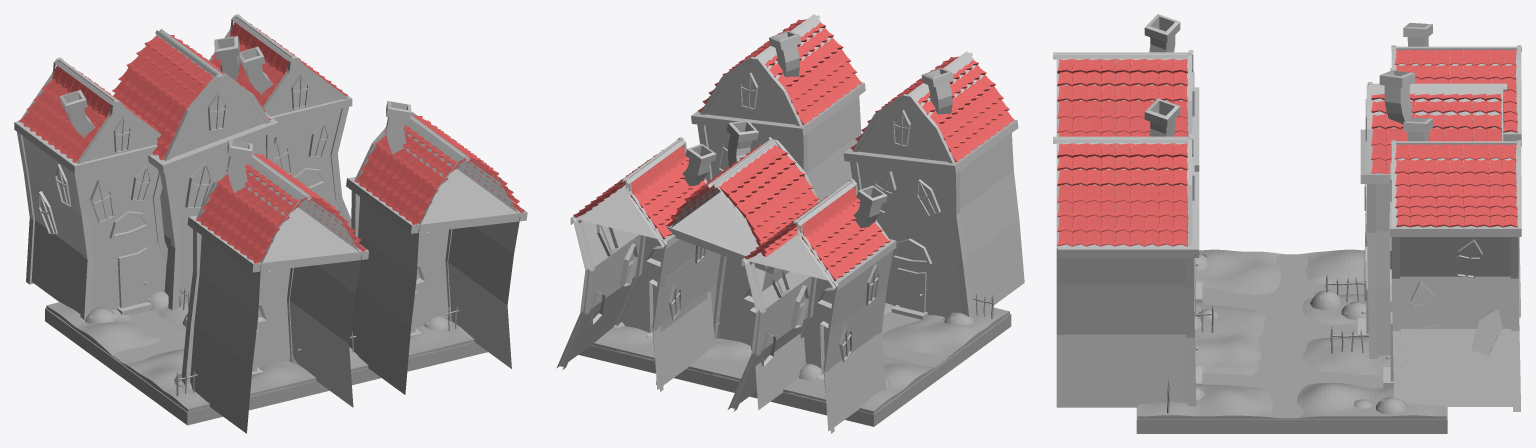
Rendered from village_maisons_v1.fbx.
The picture shows the model from 3 angles, left to right: view 1: azimuth 30°, elevation 25°; view 2: azimuth 150°, elevation 25°; view 3: azimuth 270°, elevation 25°; orthographic projection. The views are drawn at different scales.
Parts seen in each view (by area): view 1: Maison_entre_4, Maison_entre_3, Maison_2, Maison_entre_2, Maison_1, sol24, sol10, sol23; view 2: Maison_entre_4, Maison_2, Maison_1, Maison_entre_2, Maison_entre_3, sol24, sol10, sol23; view 3: Maison_entre_3, Maison_1, sol24, Maison_entre_2, Maison_entre_4, sol23, Maison_2, sol10, Buisson19.
Boxes of the visible parts, x1,y1,x2,y2 form: Maison_entre_4: [181, 139, 368, 433]; Maison_entre_3: [346, 101, 527, 394]; Maison_2: [14, 57, 167, 320]; Maison_entre_2: [112, 29, 279, 310]; Maison_1: [209, 14, 352, 227]; sol24: [46, 302, 474, 411]; sol10: [45, 308, 487, 425]; sol23: [113, 310, 434, 396]; Maison_entre_4: [843, 51, 1024, 319]; Maison_2: [727, 179, 896, 433]; Maison_1: [556, 137, 716, 391]; Maison_entre_2: [656, 120, 819, 410]; Maison_entre_3: [691, 14, 865, 201]; sol24: [591, 303, 1009, 413]; sol10: [578, 314, 1011, 426]; sol23: [616, 311, 945, 401]; Maison_entre_3: [1053, 98, 1202, 407]; Maison_1: [1383, 117, 1521, 411]; sol24: [1137, 249, 1446, 419]; Maison_entre_2: [1357, 70, 1506, 358]; Maison_entre_4: [1053, 14, 1202, 315]; sol23: [1198, 254, 1383, 418]; Maison_2: [1390, 23, 1521, 317]; sol10: [1136, 407, 1447, 433]; Buisson19: [1310, 290, 1343, 310].
Size of the model in its own units: 1008 by 814 by 1207.
